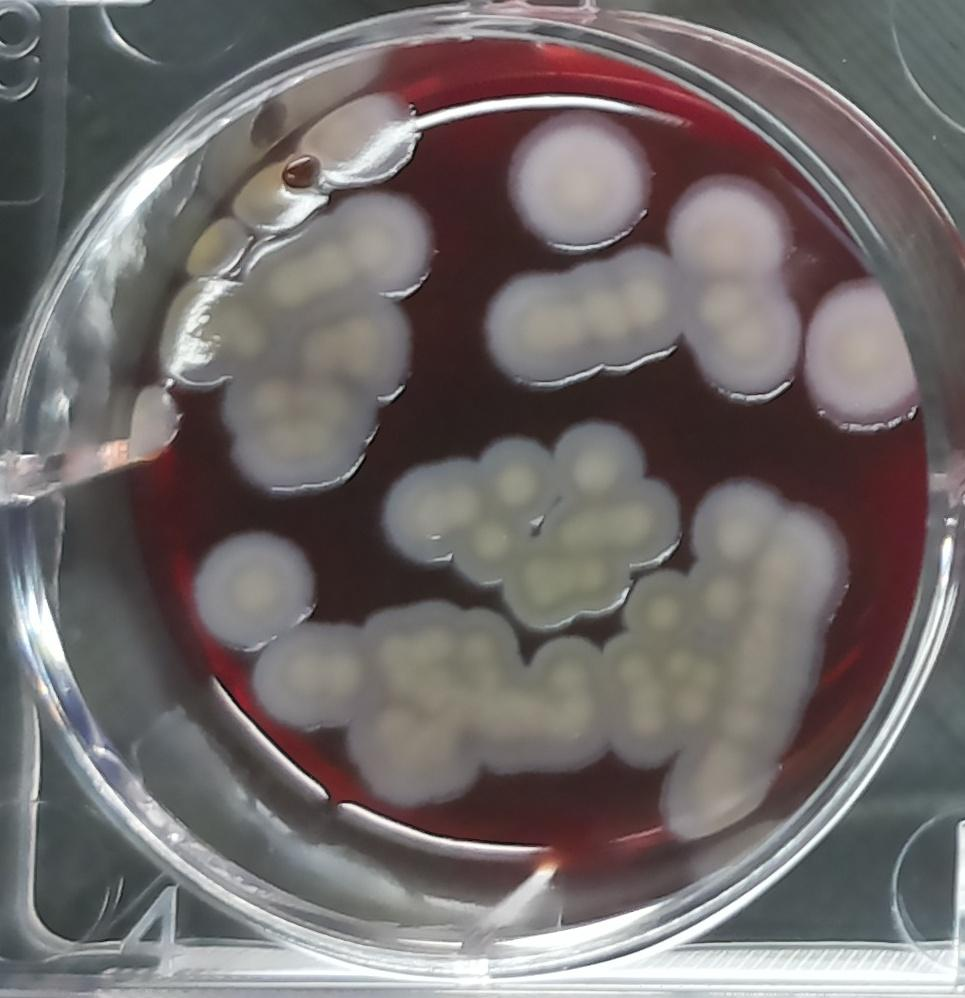bcereus: (668, 171, 804, 408), (476, 244, 680, 392), (499, 106, 655, 258), (800, 265, 927, 443), (336, 689, 487, 817), (221, 377, 376, 496), (187, 526, 321, 653), (242, 611, 370, 737), (294, 76, 426, 192), (155, 277, 282, 397), (292, 300, 424, 409), (743, 502, 858, 620), (374, 457, 493, 571), (324, 191, 440, 300), (659, 739, 775, 841), (690, 477, 793, 580), (360, 590, 467, 686), (598, 683, 700, 783), (551, 412, 647, 513), (594, 476, 687, 573), (437, 596, 533, 688), (497, 543, 588, 636), (231, 147, 325, 237), (477, 432, 561, 531), (525, 623, 605, 713), (445, 507, 533, 588), (617, 564, 699, 648), (182, 217, 256, 280)
